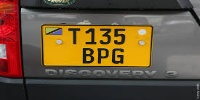T: (66, 26, 82, 45)
